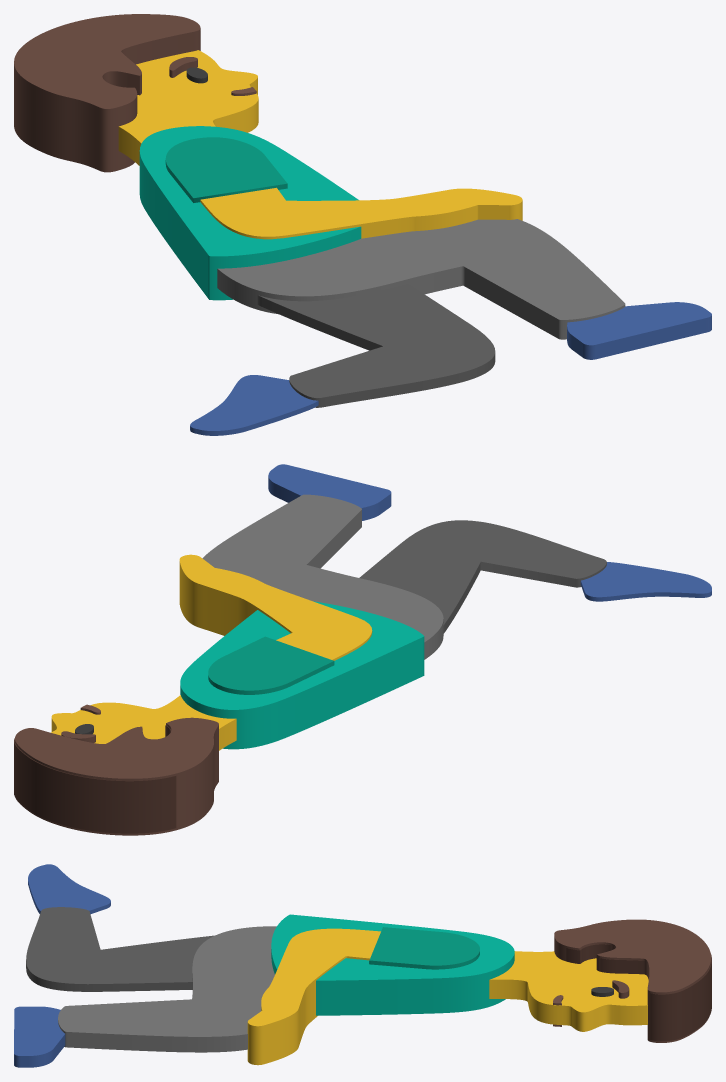
File: emoji_u1f9ce_200d_2642_200d_27a1.glb
3 renders of one model, top to bottom at view 1: azimuth 30°, elevation 25°; view 2: azimuth 150°, elevation 25°; view 3: azimuth 270°, elevation 25°, orthographic. The views are drawn at different scales.
Parts seen in each view (by area): view 1: emoji_u1f9ce_200d_2642_200d_27a1; view 2: emoji_u1f9ce_200d_2642_200d_27a1; view 3: emoji_u1f9ce_200d_2642_200d_27a1.
Boxes of the visible parts, left/top/right/bottom form: emoji_u1f9ce_200d_2642_200d_27a1: left=14, top=14, right=711, bottom=435; emoji_u1f9ce_200d_2642_200d_27a1: left=14, top=464, right=711, bottom=835; emoji_u1f9ce_200d_2642_200d_27a1: left=14, top=864, right=711, bottom=1067.
Bounding box in the file's own units: 0.0215 × 0.0026 × 0.0325.
